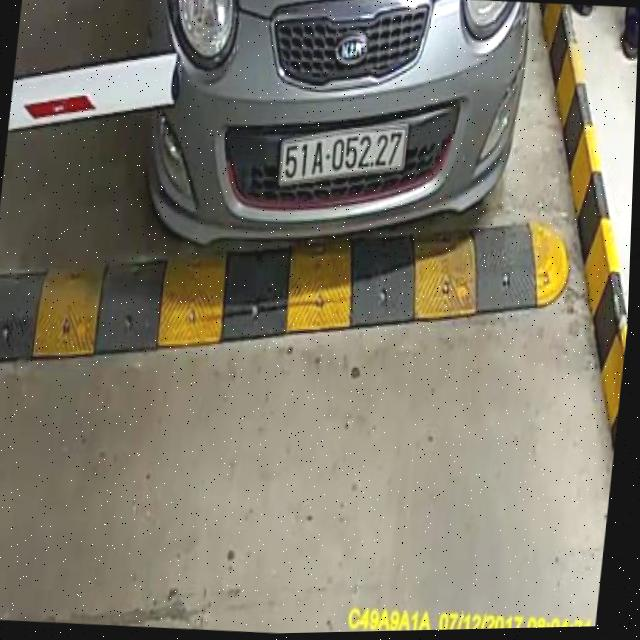car: (122, 0, 547, 280)
plate: (270, 116, 414, 197)
